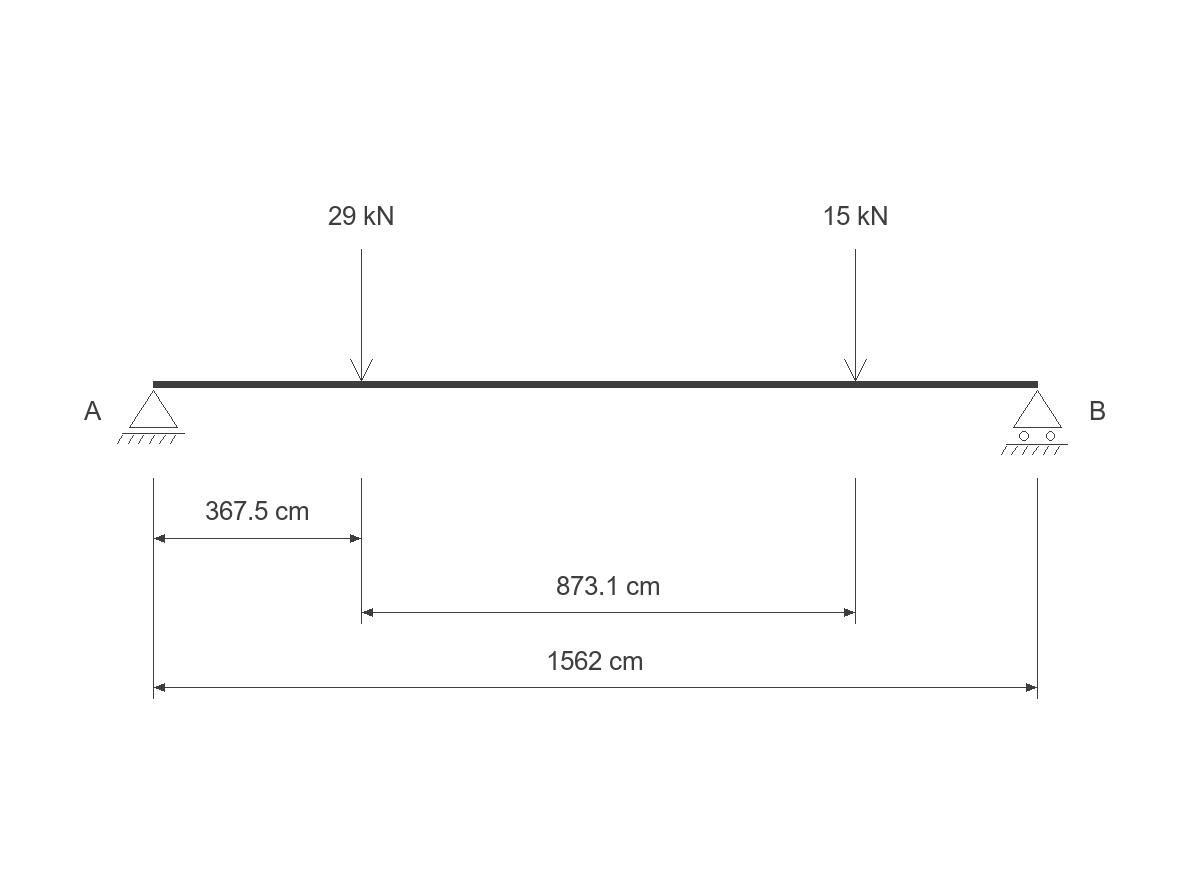pin_support: (117, 390, 185, 444)
point_load: (350, 249, 373, 381), (844, 249, 867, 381)
roller_support: (1001, 390, 1068, 455)
